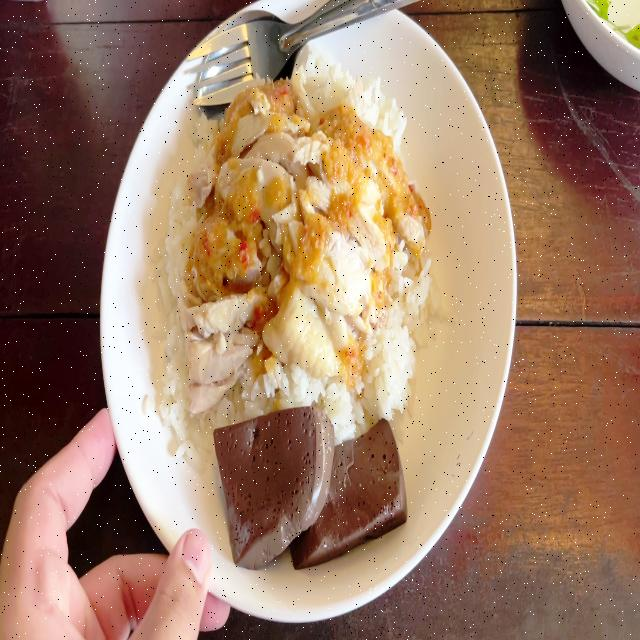boiled_chicken: (204, 90, 387, 358)
boiled_chicken_blood_jelly: (212, 407, 335, 555), (290, 419, 413, 554)
chicken_rice: (164, 47, 449, 575)
